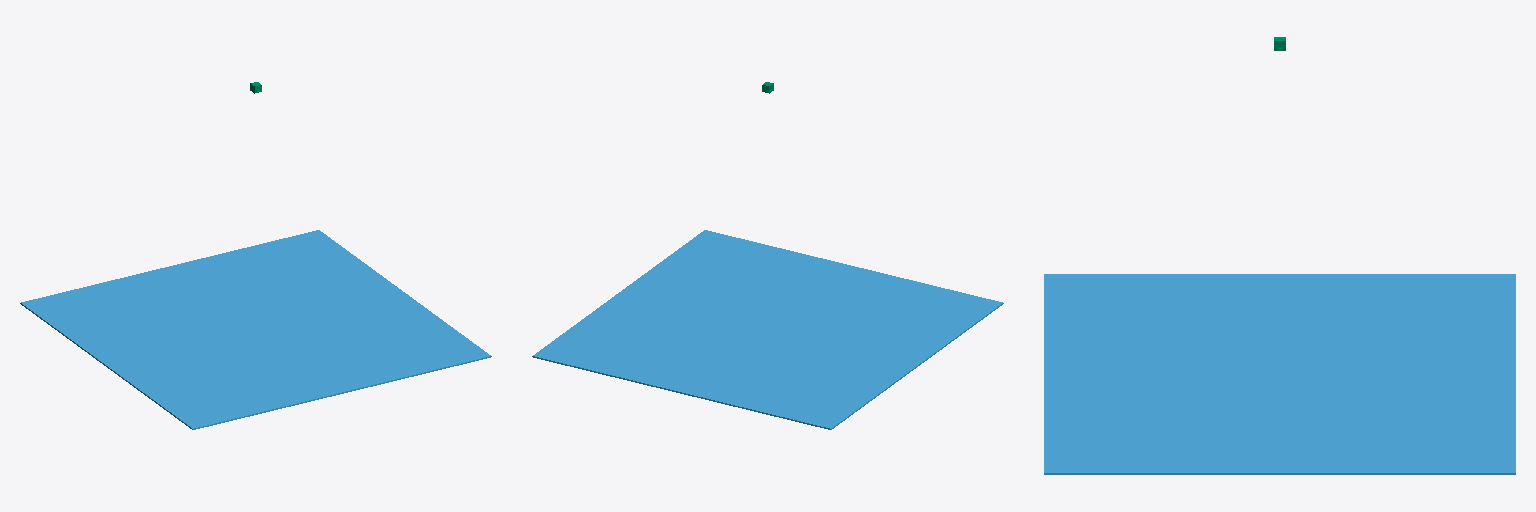
URDF robot description (arena2):
<?xml version="1.0" encoding="utf-8"?>
<!-- =================================================================================== -->
<!-- |    This document was autogenerated by xacro from bot.urdf.xacro                 | -->
<!-- |    EDITING THIS FILE BY HAND IS NOT RECOMMENDED                                 | -->
<!-- =================================================================================== -->
<robot name="arena2">
  <link name="world"/>
  <link name="arena">
    <inertial>
      <origin rpy="0 0 0" xyz="0 0 20"/>
      <mass value="1"/>
      <inertia ixx="0.00120533333333" ixy="0" ixz="0" iyy="0.00120533333333" iyz="0" izz="0.0024"/>
    </inertial>
    <collision>
      <origin rpy="0 0 0" xyz="5 5 25"/>
      <geometry>
        <box size="0.0001 0.0001 0.0001" />
      </geometry>
    </collision>
    <visual>
      <origin rpy="0 0 0" xyz="0 0 -0.005"/>
      <geometry>
        <mesh filename="package://bot_description/meshes/arena2.dae"/>
      </geometry>
    </visual>
  </link>
 <joint name="world_arena" type="fixed">
    <parent link="world"/>
    <child link="arena"/>
    <origin rpy="0 0 0" xyz="0 0 0.0001"/>
  </joint>
<gazebo>
    <static>true</static>
</gazebo>


<!-- camera plugin   -->
<joint name="camera_joint" type="fixed">
    <axis xyz="0 1 0" />
    <origin xyz="0 0 1.65" rpy="0 1.57079632679 0"/>

    <parent link="world"/>
    <child link="camera_link"/>
  </joint>

  <!-- Camera -->
  <link name="camera_link">
    <collision>
      <origin xyz="0 0 0" rpy="0 0 0"/>
      <geometry>
    <box size="0.05 0.05 0.05"/>
      </geometry>
    </collision>

    <visual>
      <origin xyz="0 0 0" rpy="0 0 0"/>
      <geometry>
    <box size="0.05 0.05 0.05"/>
      </geometry>
      <material name="red"/>
    </visual>

    <inertial>
      <mass value="1e-5" />
      <origin xyz="0 0 0" rpy="0 0 0"/>
      <inertia ixx="1e-6" ixy="0" ixz="0" iyy="1e-6" iyz="0" izz="1e-6" />
    </inertial>
  </link>

<gazebo reference="camera_link">
    <sensor type="camera" name="camera1">
      <update_rate>30.0</update_rate>
      <camera name="head">
        <horizontal_fov>1.3962634</horizontal_fov>
        <image>
          <width>780</width>
          <height>780</height>
          <format>R8G8B8</format>
        </image>
        <clip>
          <near>0.02</near>
          <far>300</far>
        </clip>
        <noise>
          <type>gaussian</type>
          <!-- Noise is sampled independently per pixel on each frame.
               That pixel's noise value is added to each of its color
               channels, which at that point lie in the range [0,1]. -->
          <mean>0.0</mean>
          <stddev>0.007</stddev>
        </noise>
      </camera>
      <plugin name="camera_controller" filename="libgazebo_ros_camera.so">
        <alwaysOn>true</alwaysOn>
        <updateRate>0.0</updateRate>
        <cameraName>arena1/camera1</cameraName>
        <imageTopicName>image_raw</imageTopicName>
        <cameraInfoTopicName>camera_info</cameraInfoTopicName>
        <frameName>camera_link</frameName>
        <hackBaseline>0.07</hackBaseline>
        <distortionK1>0.0</distortionK1>
        <distortionK2>0.0</distortionK2>
        <distortionK3>0.0</distortionK3>
        <distortionT1>0.0</distortionT1>
        <distortionT2>0.0</distortionT2>
      </plugin>
    </sensor>
  </gazebo>

</robot>

--- What the picture shows (computed from the rendered views, not written in the file) ---
Views: 3 orthographic renders of the robot side by side, from view 1: azimuth 30°, elevation 25°; view 2: azimuth 150°, elevation 25°; view 3: azimuth 270°, elevation 25°.
Model arena2 with 3 links and 2 joints (2 fixed), rooted at world, posed every joint at zero.
Visible links, largest first — view 1: arena; view 2: arena; view 3: arena.
Link boxes in pixels (box(x1,y1,x2,y2)): arena: box(20, 230, 491, 429); arena: box(532, 230, 1003, 429); arena: box(1044, 274, 1515, 474).
Size in the robot's own frame: 2.13 by 2.13 by 1.68 metres.
1 mesh visuals loaded from 1 distinct referenced files (1 Collada DAE).
